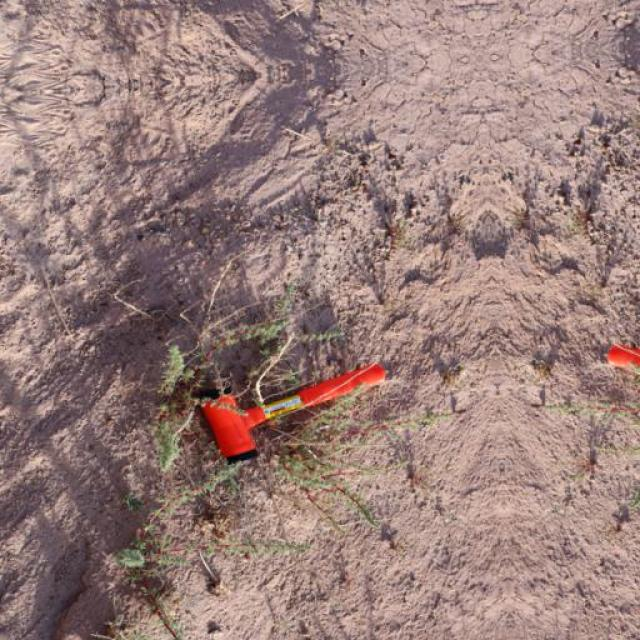mallet: (199, 360, 386, 462)
